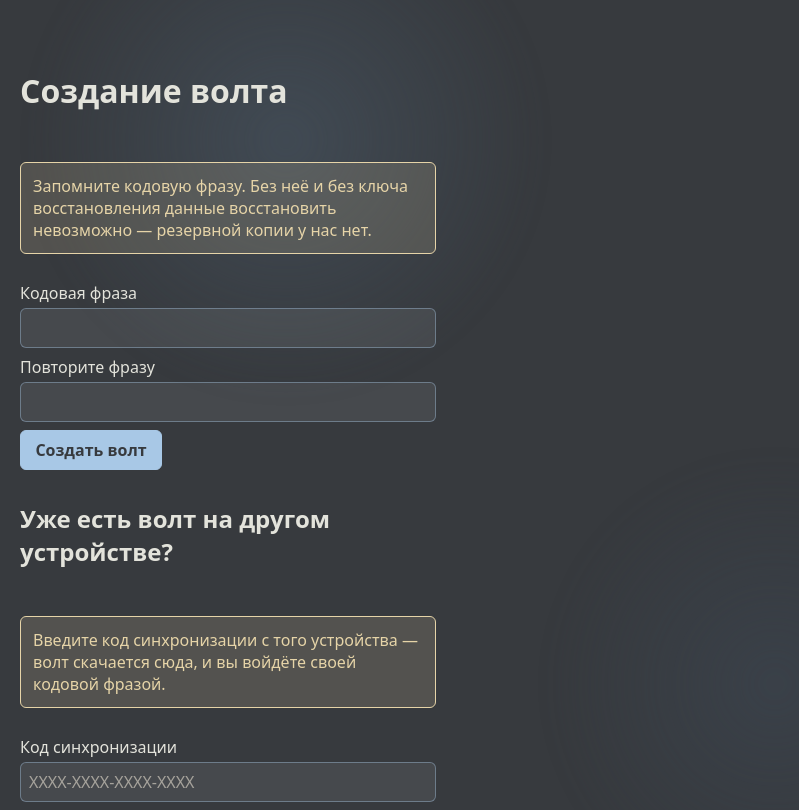
VaultGate (DoD) › слабая фраза не создаёт волт (валидация UI)
This screenshot has width=799, height=810.
Expected: the heading "Создание волта" is shown, [20,69,288,112]
Step 1. Type "short" into the password field labelled "Кодовая фраза" → (228, 328), box [20,308,436,348]
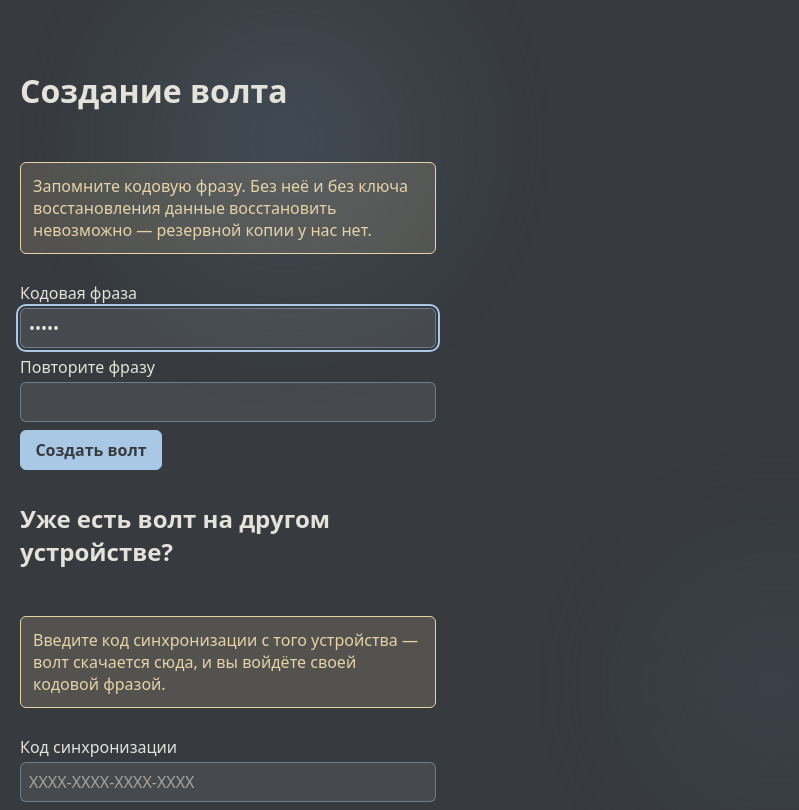
Step 2. Type "short" into the password field labelled "Повторите фразу" → (228, 402), box [20,382,436,422]
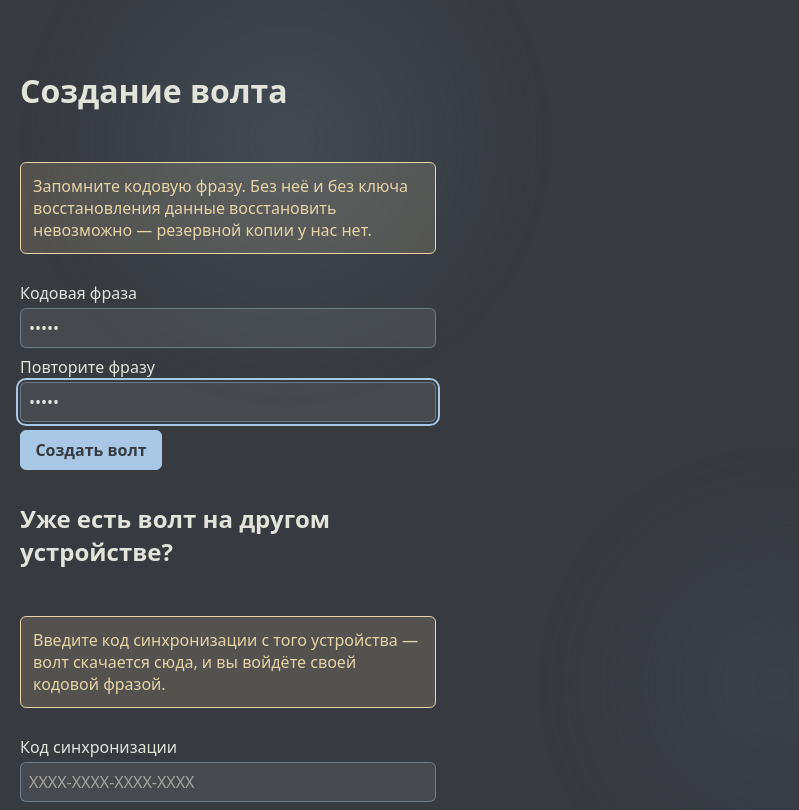
Step 3. Click the button "Создать волт" → (91, 450), box [20,430,162,470]
(page scrolled)
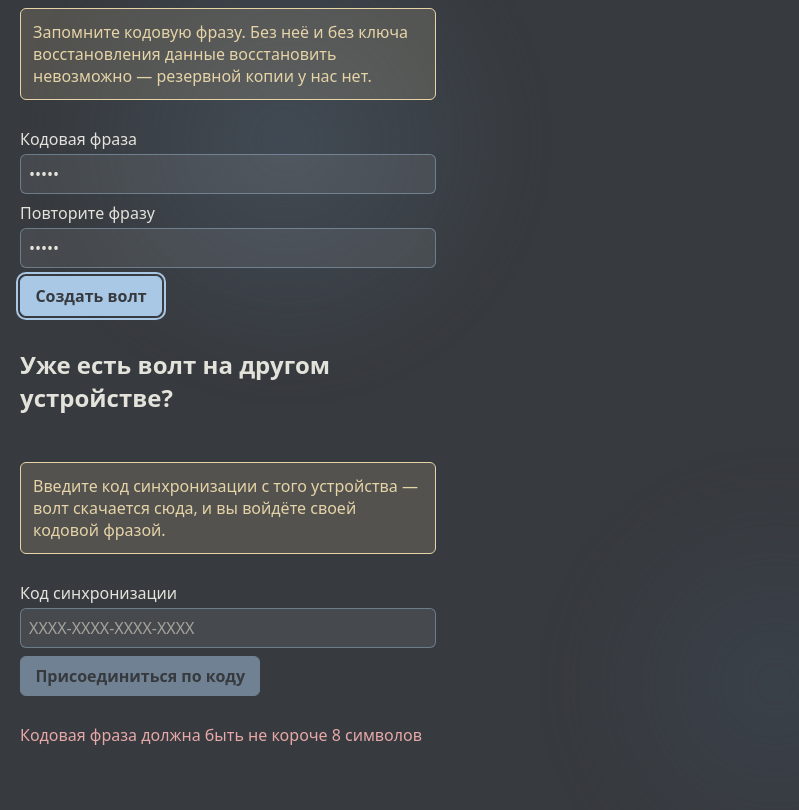
Expected: the message "Кодовая фраза должна быть не короче 8 символов" is shown, [20,724,436,746]
